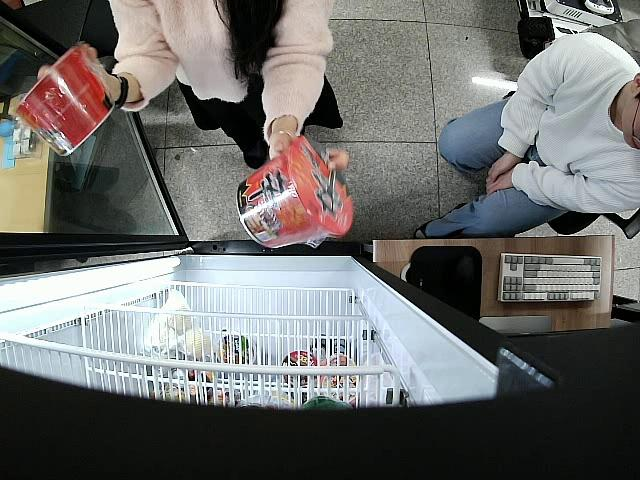00_hand: (38, 42, 112, 102), (269, 130, 349, 172)
01_shinRamen_L: (233, 133, 355, 249), (15, 45, 115, 157)
